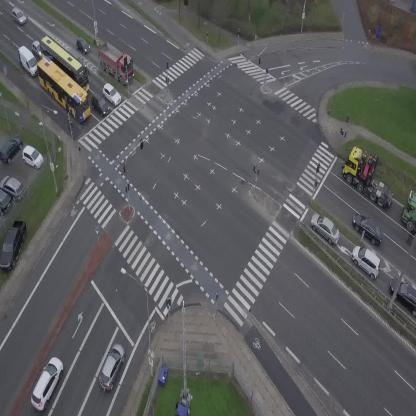bus: (29, 53, 100, 123), (33, 34, 99, 93)
car: (26, 354, 67, 412), (95, 342, 129, 392), (347, 209, 390, 248), (345, 242, 386, 280), (306, 209, 345, 246), (98, 81, 124, 107), (87, 92, 112, 119), (71, 35, 93, 57), (8, 5, 28, 27), (70, 49, 86, 64), (31, 40, 39, 58)
lorry: (334, 142, 409, 211), (88, 37, 143, 88), (12, 43, 43, 80), (402, 192, 416, 232)
